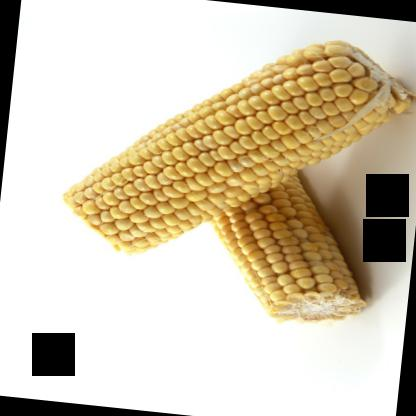corn: (57, 13, 415, 281), (204, 160, 378, 332)
